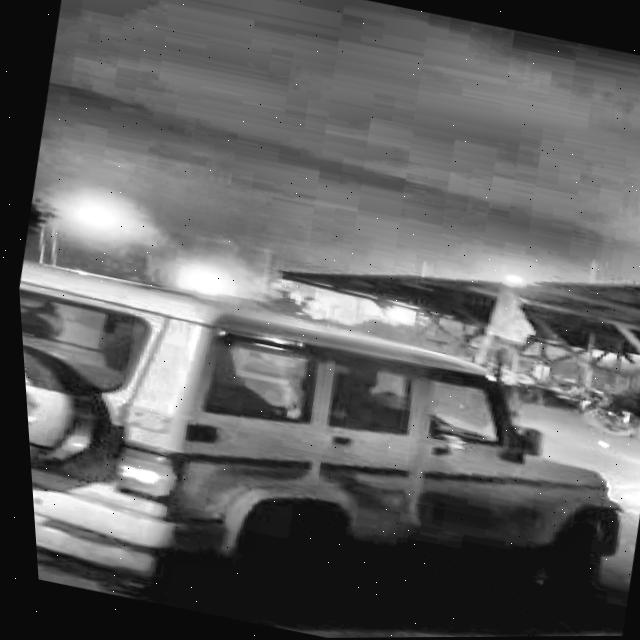light_vehicle: (14, 257, 631, 640)
